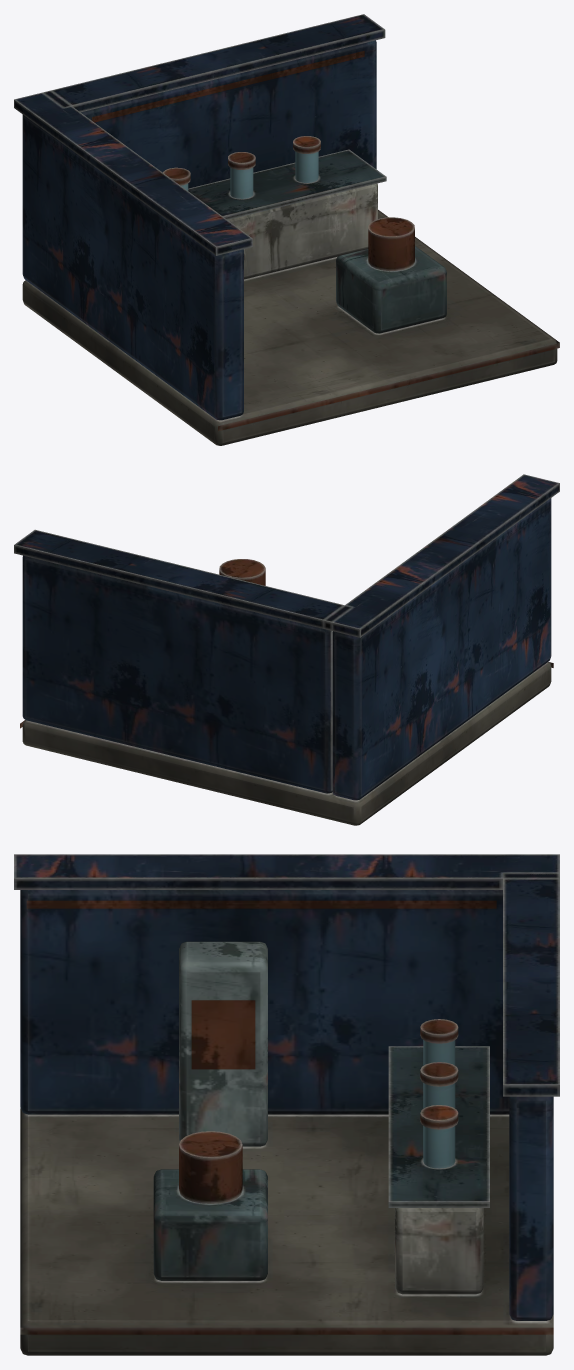
File: planetology_lab.glb
3 views of the same model, one above another, from view 1: azimuth 30°, elevation 25°; view 2: azimuth 150°, elevation 25°; view 3: azimuth 270°, elevation 25° (orthographic). The views are drawn at different scales.
Visible parts, largest first — view 1: te_planetology_lab; view 2: te_planetology_lab; view 3: te_planetology_lab.
Boxes of the visible parts, box(x1,y1,x2,y2) form: te_planetology_lab: box(14, 14, 559, 445); te_planetology_lab: box(14, 474, 559, 825); te_planetology_lab: box(14, 854, 559, 1355).
Size of the model in its own units: 0.86 by 0.48 by 0.86.
1 material, 1 textured.
